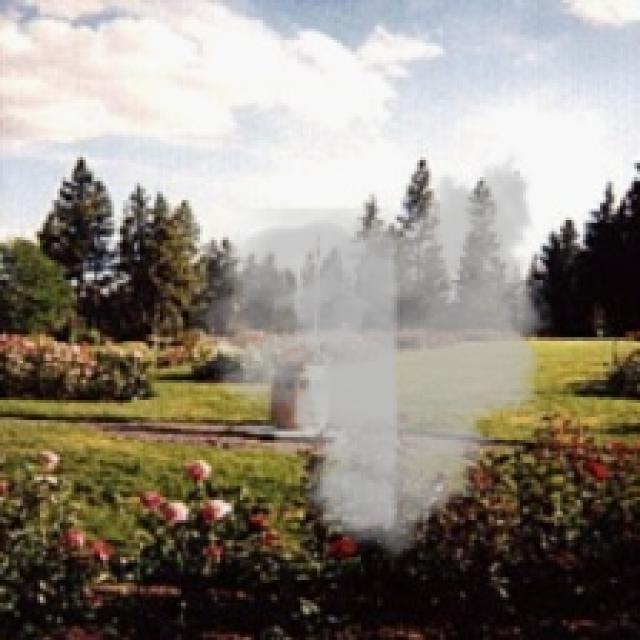Smoke: (188, 142, 558, 568)
